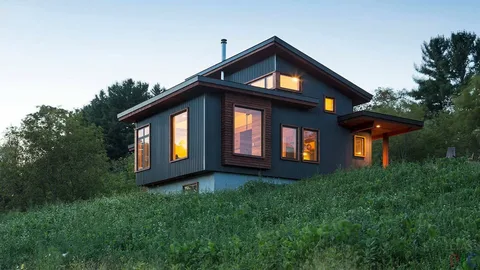private_hause: (131, 51, 389, 184)
